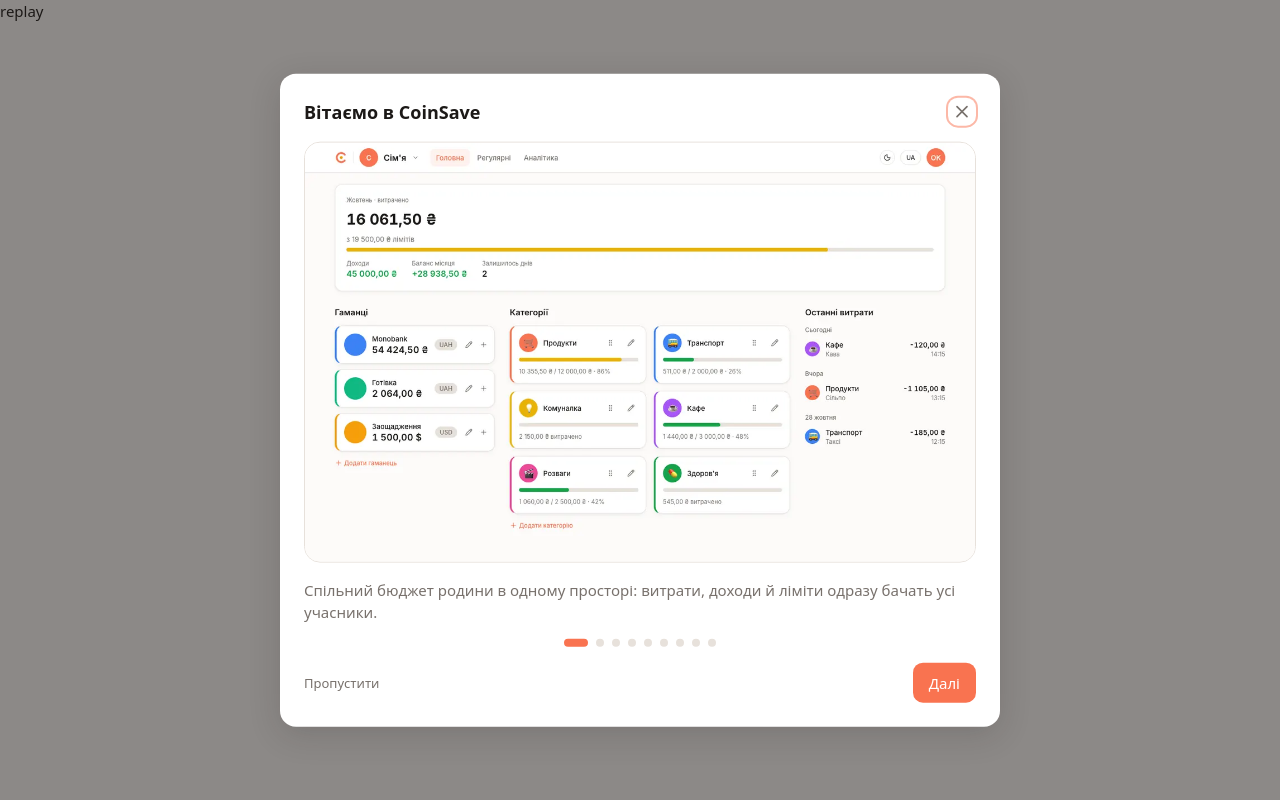
OnboardingProvider › jumps to a step from its dot
expect the dialog is shown: met, box x1=280 y1=74 x2=1000 y2=726
Step 1. Click the button named "Крок 7" → [680, 642], box x1=676 y1=638 x2=684 y2=646
(page scrolled)
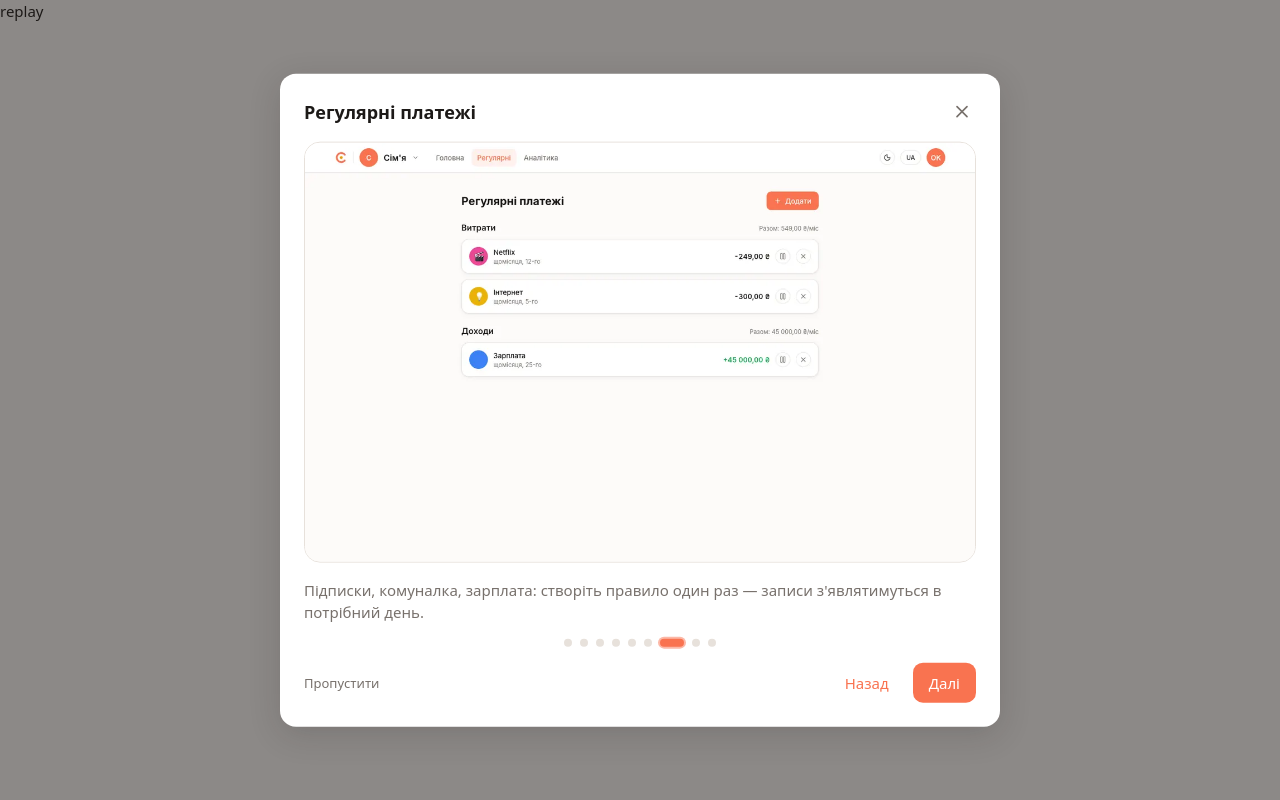
expect the dialog "Регулярні платежі" is shown: met, box x1=280 y1=74 x2=1000 y2=726
